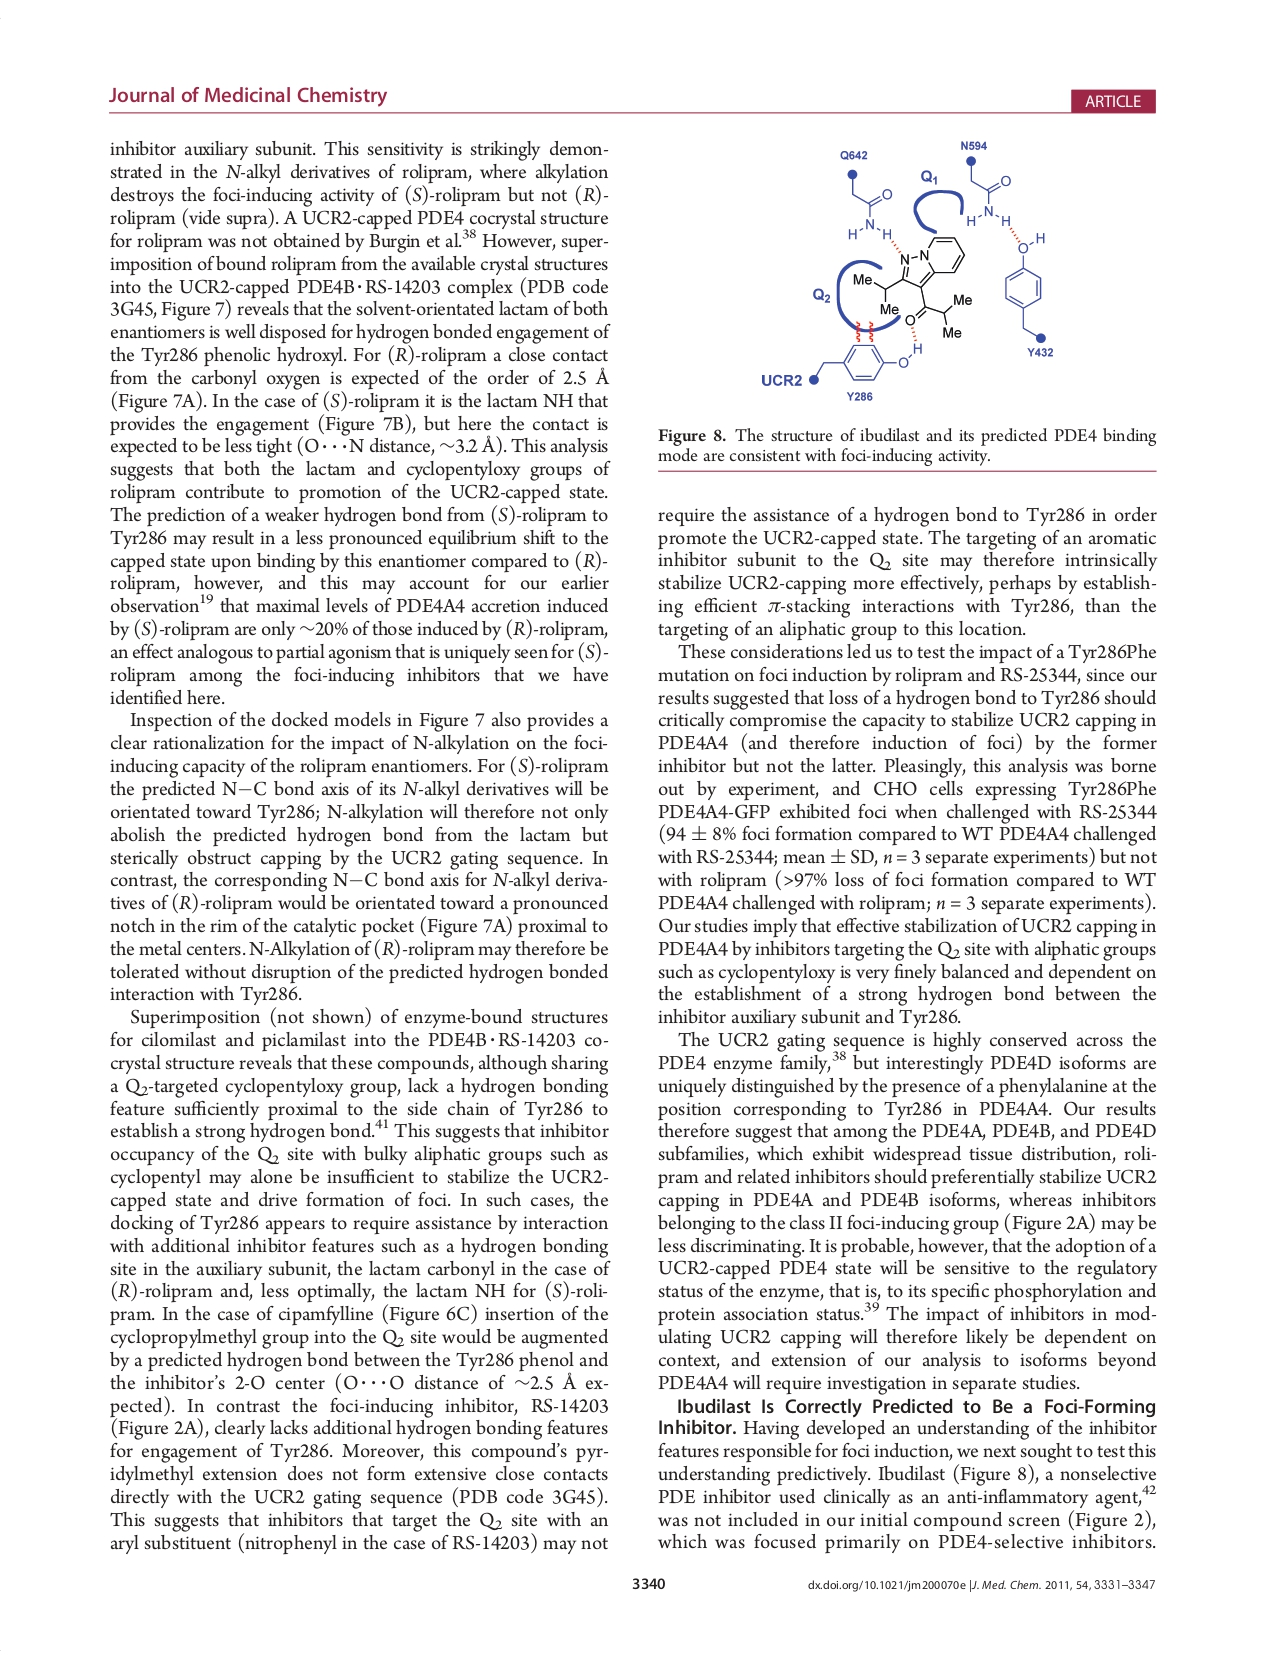exist_molecular: (759, 136, 1063, 390)
